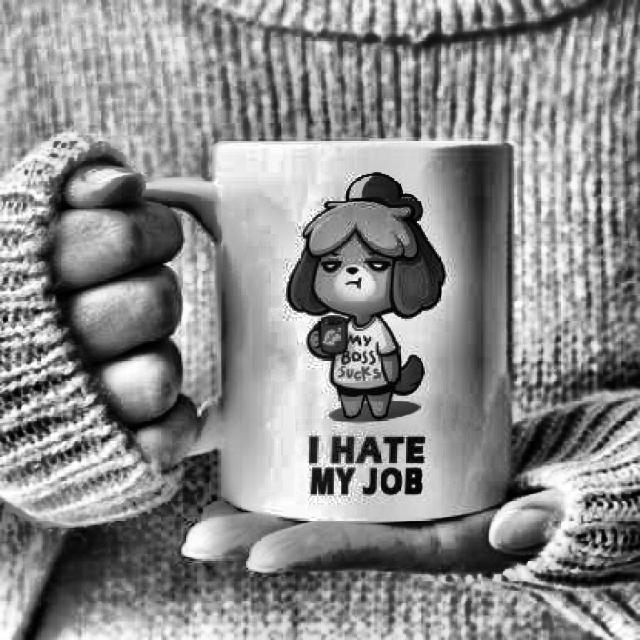Mug: (135, 140, 512, 522)
